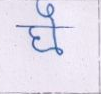ai_matra: (36, 0, 60, 26)
